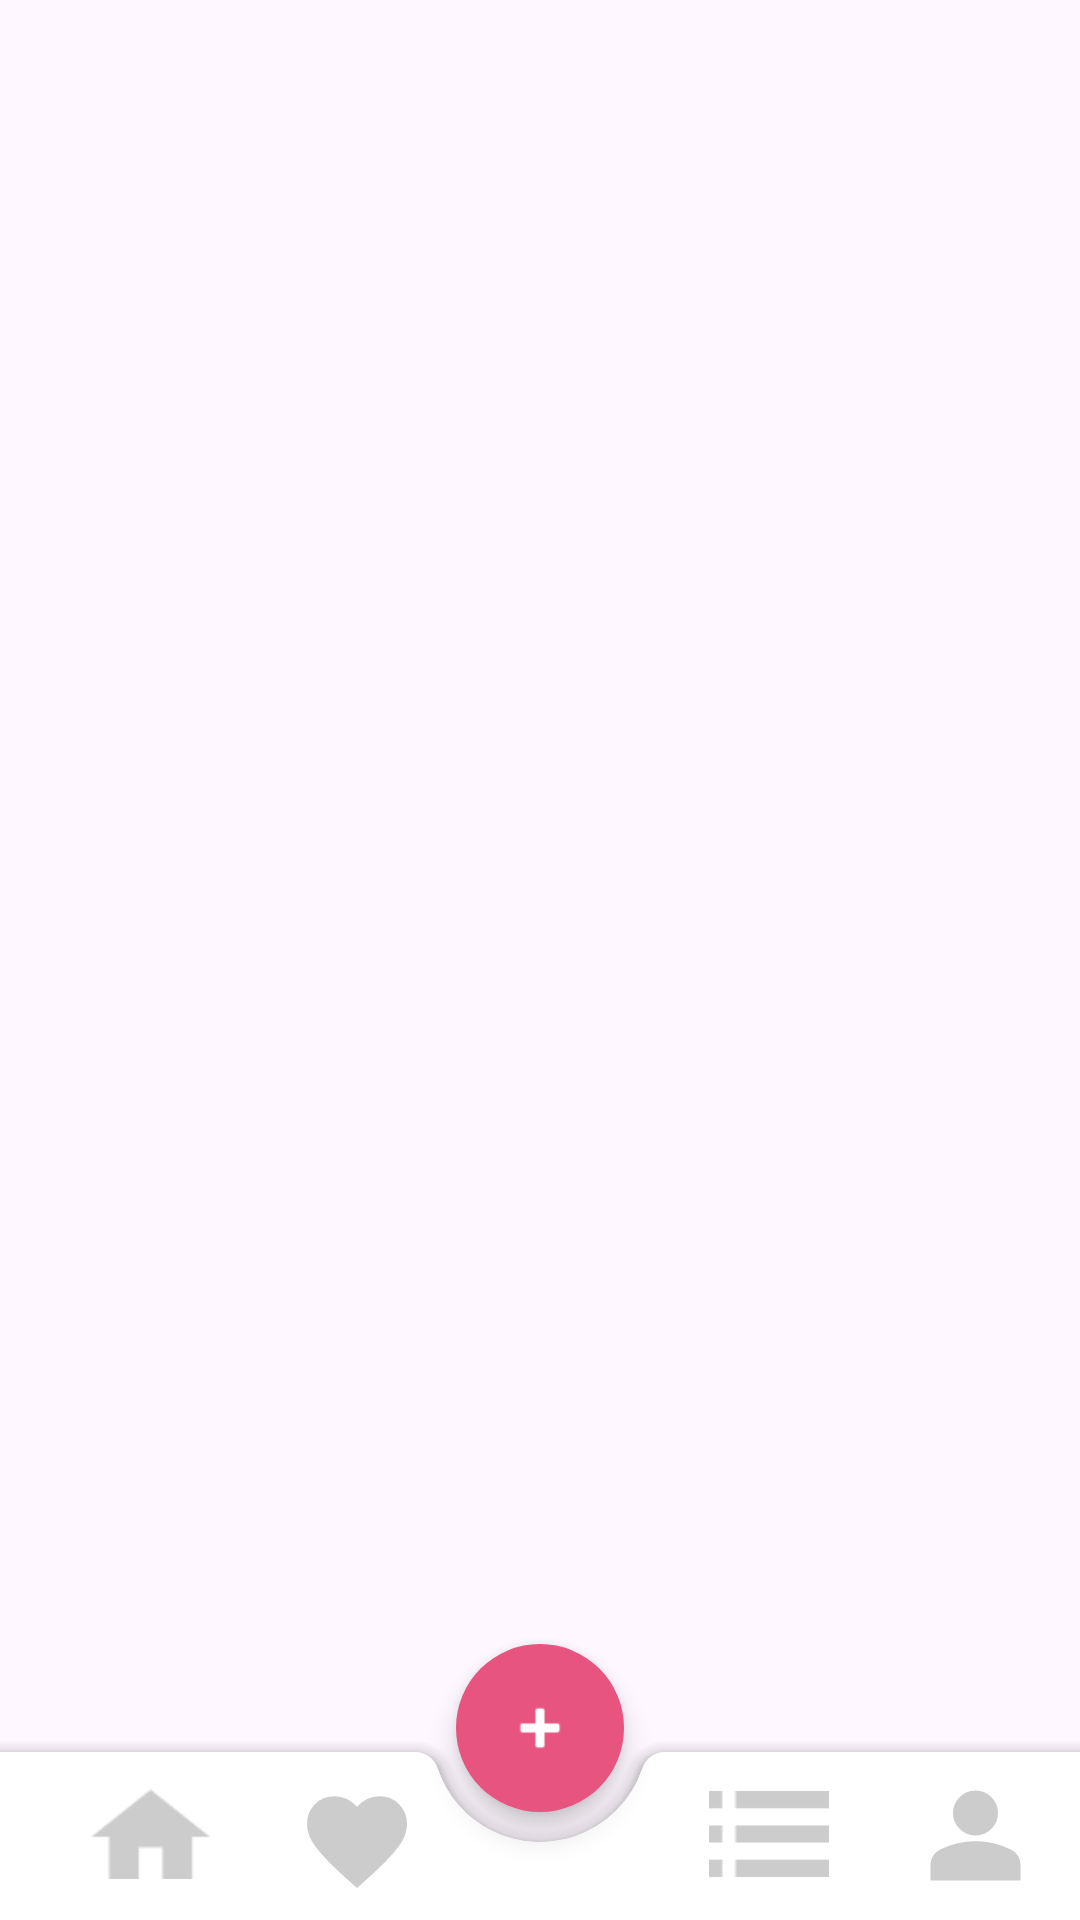

Point at icon controls on the screen. Image size 1080px x 1920px, points as (x=x, y=y).
add: (x=540, y=1746)
favorite: (x=357, y=1842)
home: (x=151, y=1834)
person: (x=975, y=1835)
